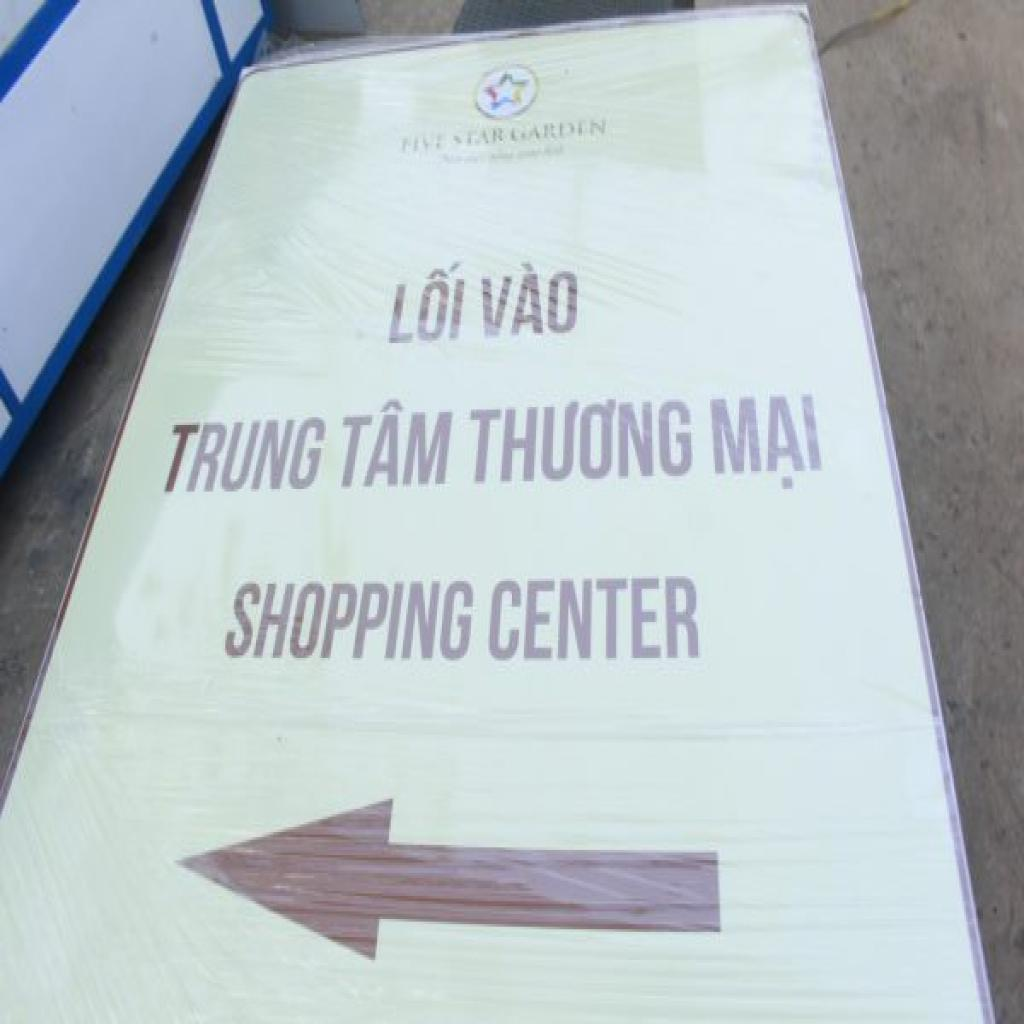text: (220, 573, 478, 663), (466, 394, 695, 489), (701, 386, 828, 496), (159, 414, 329, 496), (333, 397, 457, 494), (476, 256, 582, 343), (382, 261, 470, 351), (510, 112, 613, 148)
